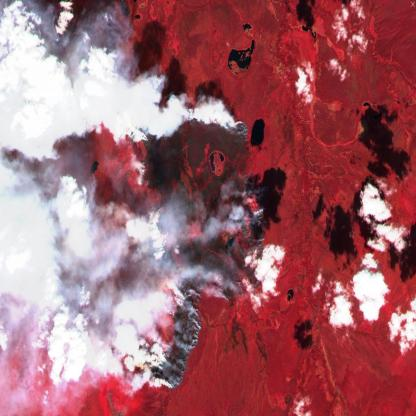fire: (124, 86, 274, 394)
